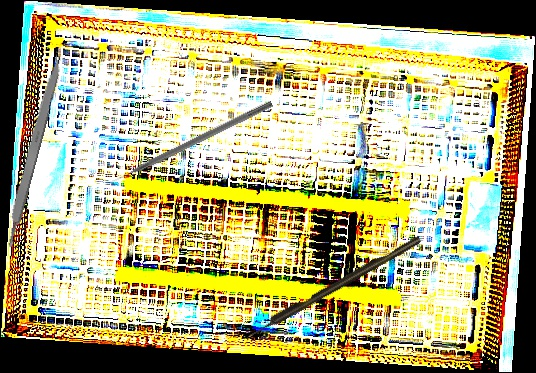Hook Surgical: (245, 235, 423, 339), (105, 99, 274, 188)
Scalpel Handle: (0, 52, 65, 251)
